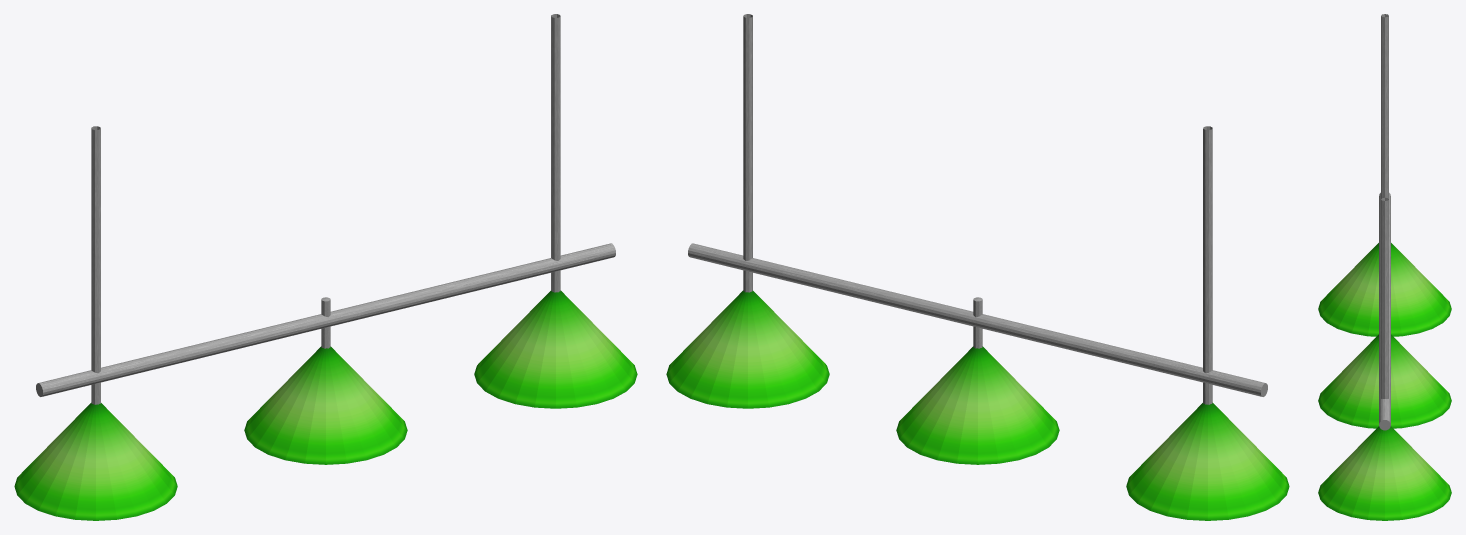
Rendered from TableLight2.fbx.
3 renders of one model, left to right at view 1: azimuth 30°, elevation 25°; view 2: azimuth 150°, elevation 25°; view 3: azimuth 270°, elevation 25°, orthographic. The views are drawn at different scales.
Visible parts, largest first — view 1: Empty_Mesh; view 2: Empty_Mesh; view 3: Empty_Mesh.
Boxes of the visible parts, x1=… form: Empty_Mesh: x1=14, y1=14, x2=637, y2=520; Empty_Mesh: x1=666, y1=14, x2=1289, y2=520; Empty_Mesh: x1=1318, y1=14, x2=1451, y2=520.
Bounding box in the file's own units: 170 × 96.8 × 40.
